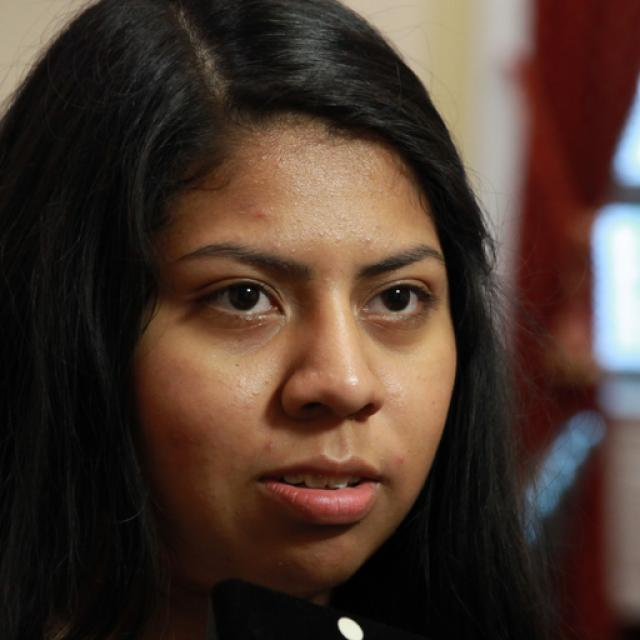Acne: (243, 199, 269, 227), (314, 269, 338, 295), (389, 446, 409, 474), (361, 232, 387, 251), (267, 235, 288, 257), (251, 149, 269, 166)
